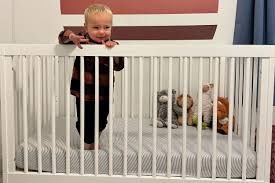baby: (84, 56, 94, 149)
crib: (0, 44, 274, 182)
